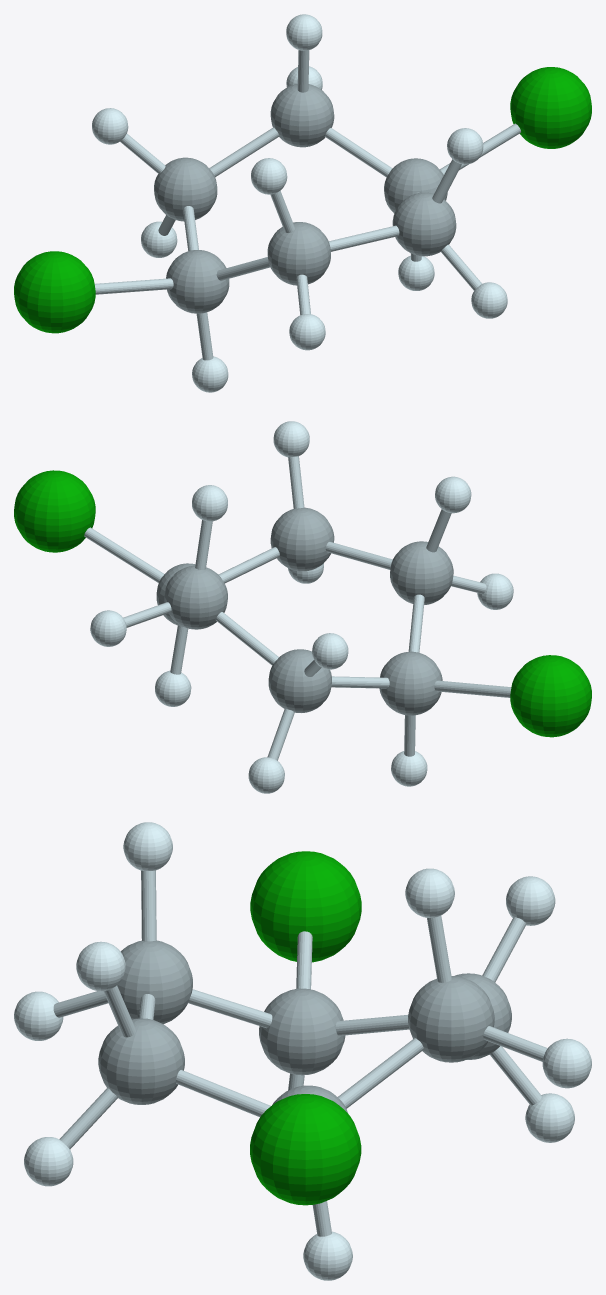
Rendered from irc_step_106.glb.
3 views of the same model, one above another, from view 1: azimuth 30°, elevation 25°; view 2: azimuth 150°, elevation 25°; view 3: azimuth 270°, elevation 25° (orthographic). The views are drawn at different scales.
Visible parts, largest first — view 1: Renderer Node; view 2: Renderer Node; view 3: Renderer Node.
Part boxes in pixels (x1,y1,x2,y2): Renderer Node: [14, 14, 591, 392]; Renderer Node: [14, 421, 591, 793]; Renderer Node: [14, 822, 591, 1280].
Bounding box in the file's own units: 7.16 × 3.63 × 4.66.
